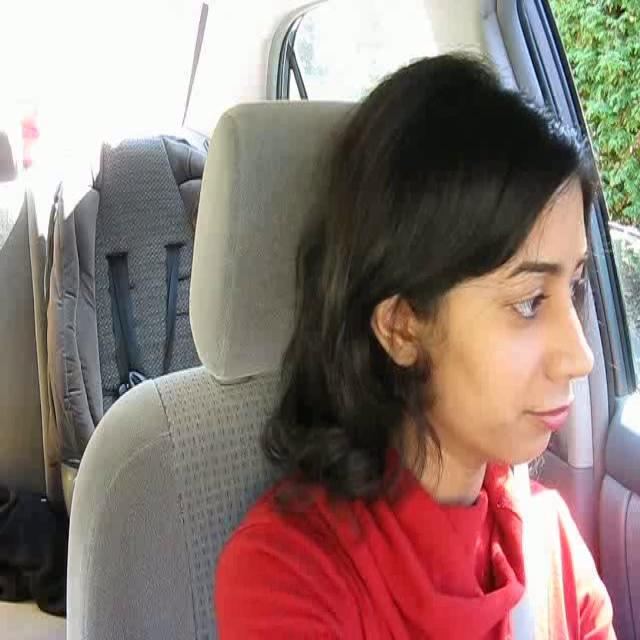close: (526, 391, 577, 436)
